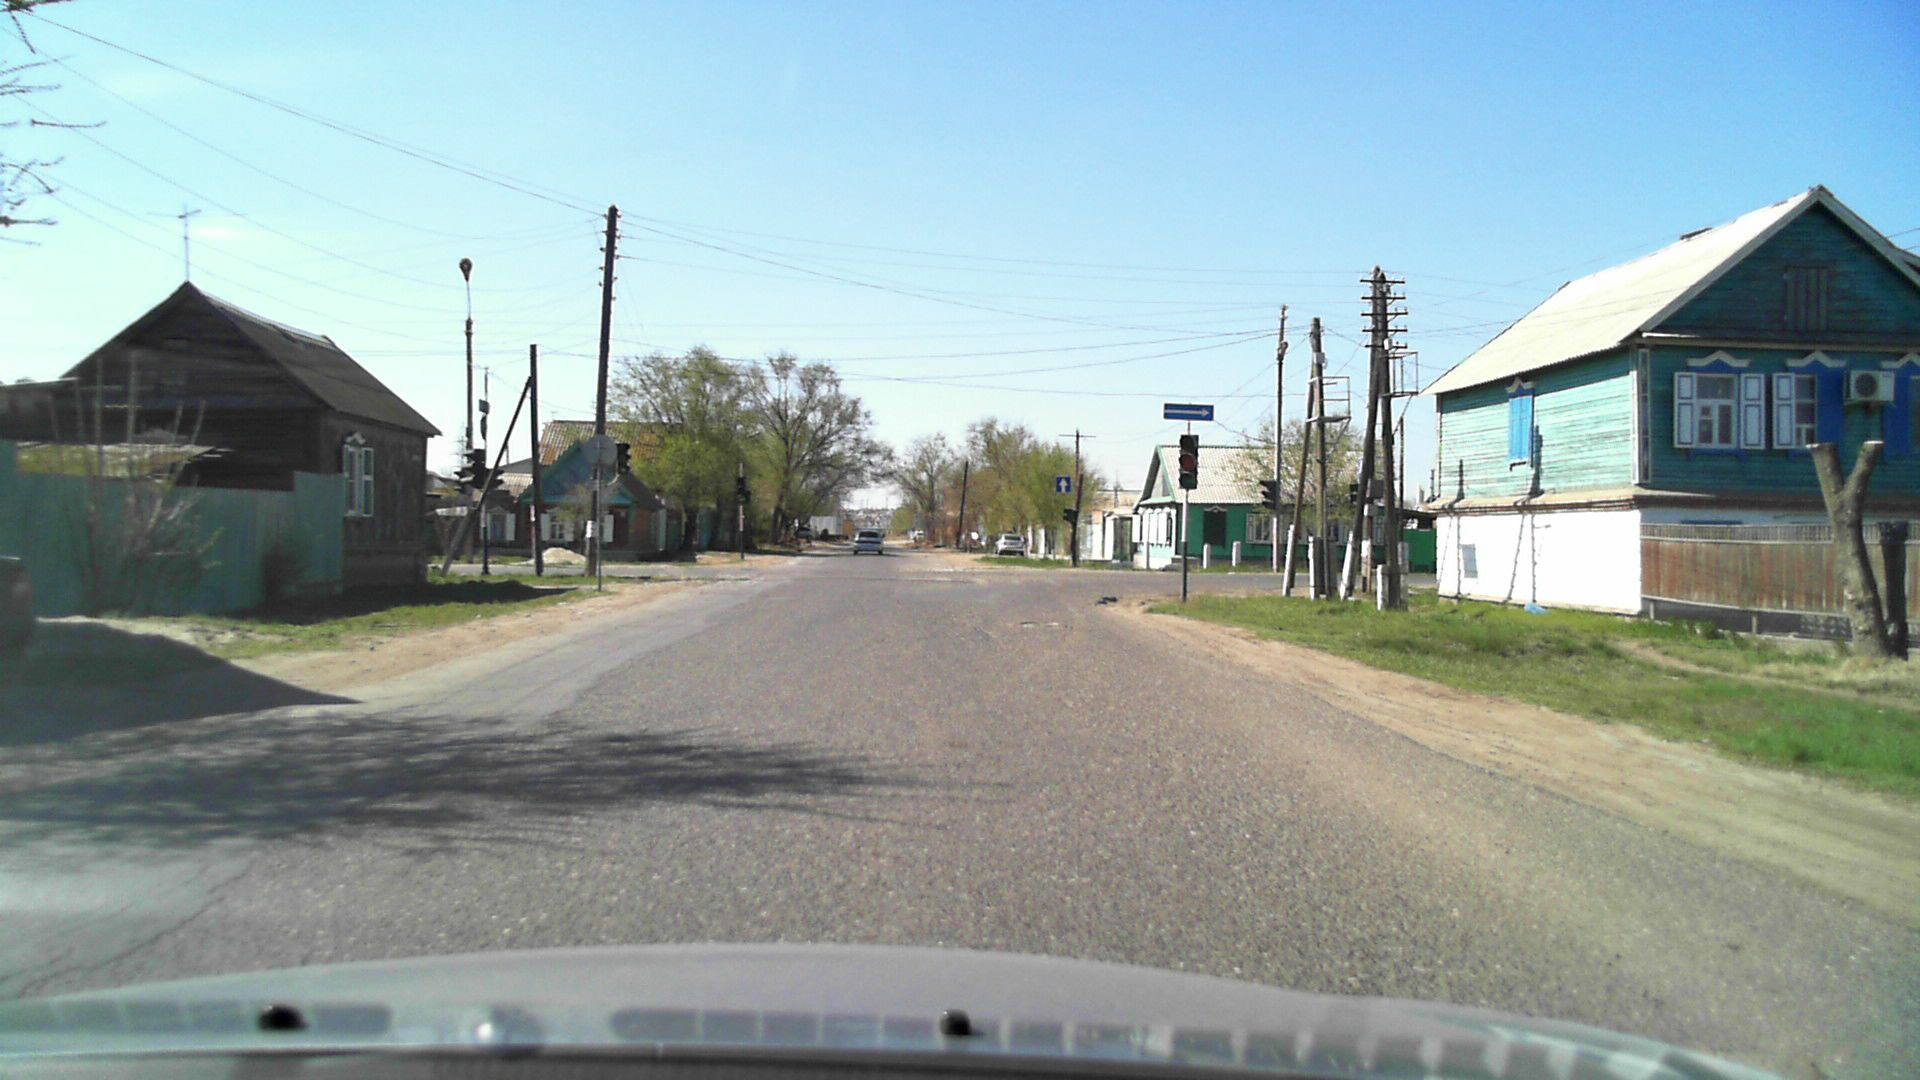One-Way Traffic: (1163, 402, 1215, 421)
